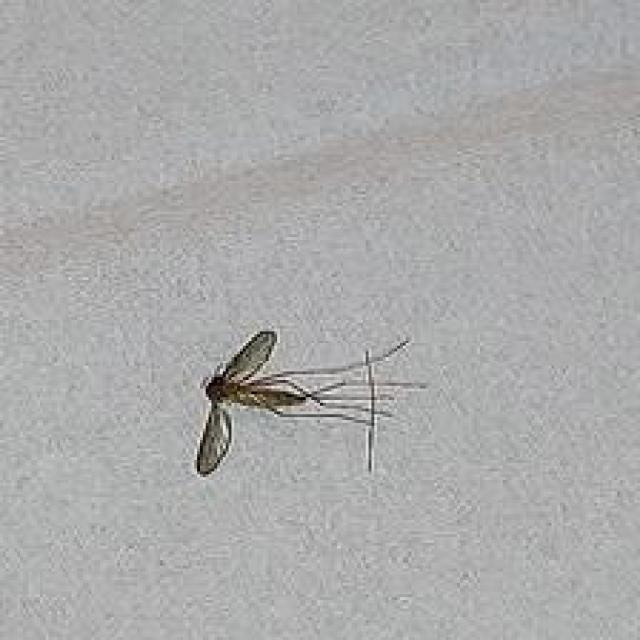Culex: (193, 329, 427, 477)
